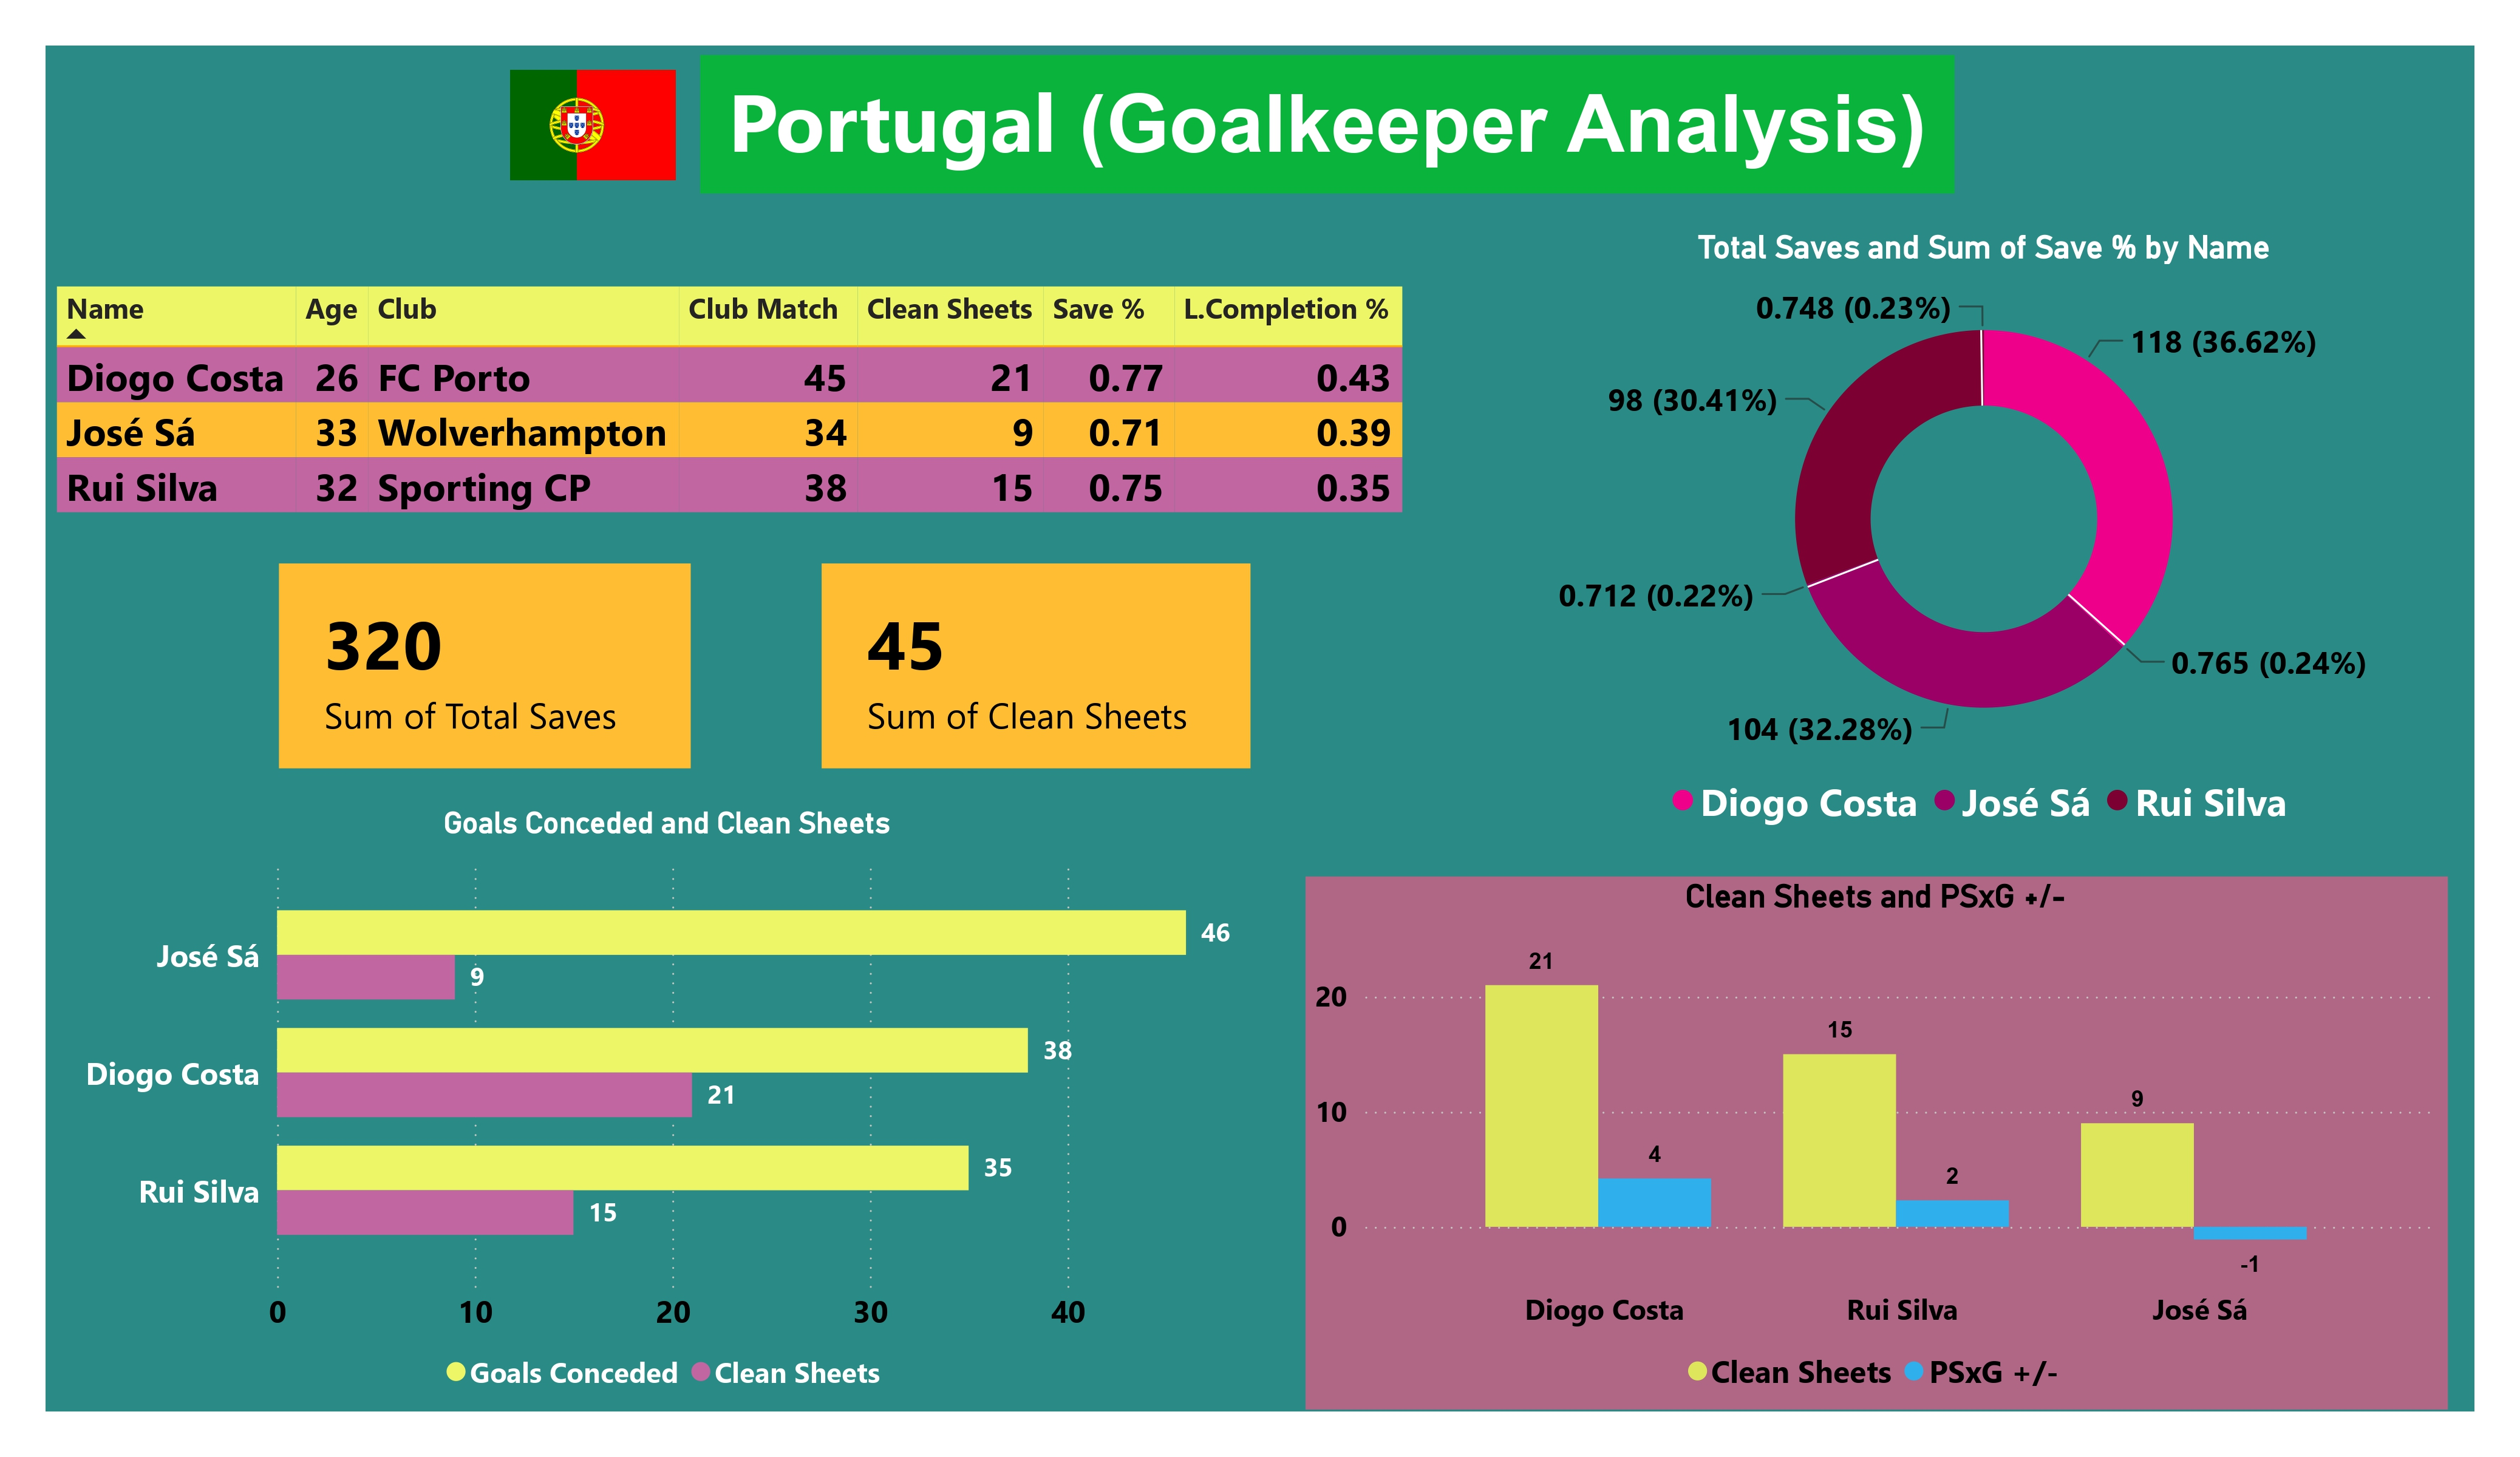

What the dashboard file says about the page in this screenshot:
{"tool":"powerbi","page":{"name":"Goalkeeper","canvas":[1280,720],"ordinal":3},"visuals":[{"type":"slicer","fields":{"Values":["Sheet1.Position"]},"box":[995.9,522.4,246.5,181.2],"z":0},{"type":"textbox","box":[345.1,4.7,661,73.4],"z":1000},{"type":"donutChart","fields":{"Category":["Sheet1.Name"],"Y":["Sum(Sheet1.Total Saves)","Sum(Sheet1.Save %)"]},"box":[765.9,95.6,510.6,324.1],"z":2000},{"type":"cardVisual","fields":{"Data":["Sum(Sheet1.Clean Sheets)"]},"box":[403.5,268,236.5,118.2],"z":3000},{"type":"cardVisual","fields":{"Data":["Sum(Sheet1.Total Saves)"]},"box":[118.2,268,227,118.2],"z":4000},{"type":"tableEx","fields":{"Values":["Sheet1.Name","Sum(Sheet1.Age)","Sheet1.Club","Sum(Sheet1.Club Match)","Sum(Sheet1.Clean Sheets)","Sum(Sheet1.Save %)","Sum(Sheet1.Launch Completion %)"]},"box":[0,122.4,728.6,135.2],"z":5000},{"type":"clusteredBarChart","title":"Goals Conceded and Clean Sheets ","fields":{"Category":["Sheet1.Name"],"Y":["Sum(Sheet1.Goals Conceded)","Sum(Sheet1.Clean Sheets)"]},"box":[15.2,399.9,624.8,319.4],"z":6000},{"type":"clusteredColumnChart","title":"Clean Sheets and PSxG +/- ","fields":{"Category":["Sheet1.Name"],"Y":["Sum(Sheet1.Clean Sheets)","Sum(Sheet1.PSxG +/-)"]},"box":[663.6,438.2,602.2,280.6],"z":7000},{"type":"image","box":[232,12.8,113.1,58.3],"z":8000}]}

Visuals, with their boxes on the page's 1280x720 design canvas (x1, y1, x2, y2). These are canvas units, not pixel positions in the 2520x1457 screenshot, which may show the page scaled, cropped or inside an application window:
slicer - Sheet1.Position: locate(996, 522, 1242, 704)
textbox: locate(345, 5, 1006, 78)
donutChart - Sheet1.Name x Sum(Sheet1.Total Saves): locate(766, 96, 1276, 420)
cardVisual - Sum(Sheet1.Clean Sheets): locate(404, 268, 640, 386)
cardVisual - Sum(Sheet1.Total Saves): locate(118, 268, 345, 386)
tableEx - Sheet1.Name x Sum(Sheet1.Age): locate(0, 122, 729, 258)
"Goals Conceded and Clean Sheets " clusteredBarChart: locate(15, 400, 640, 719)
"Clean Sheets and PSxG +/- " clusteredColumnChart: locate(664, 438, 1266, 719)
image: locate(232, 13, 345, 71)
